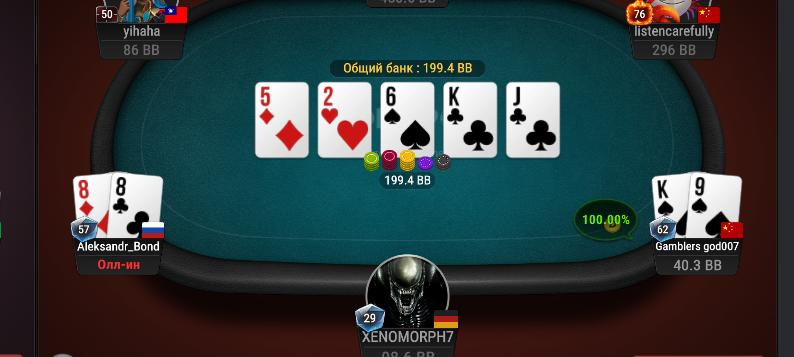2h: (318, 83, 372, 157)
5d: (257, 84, 308, 156)
6s: (381, 83, 434, 156)
8c: (112, 171, 162, 240)
8d: (73, 174, 112, 239)
9s: (689, 172, 740, 237)
Jc: (507, 83, 559, 157)
Kc: (443, 83, 496, 157)
Ks: (651, 173, 689, 238)
